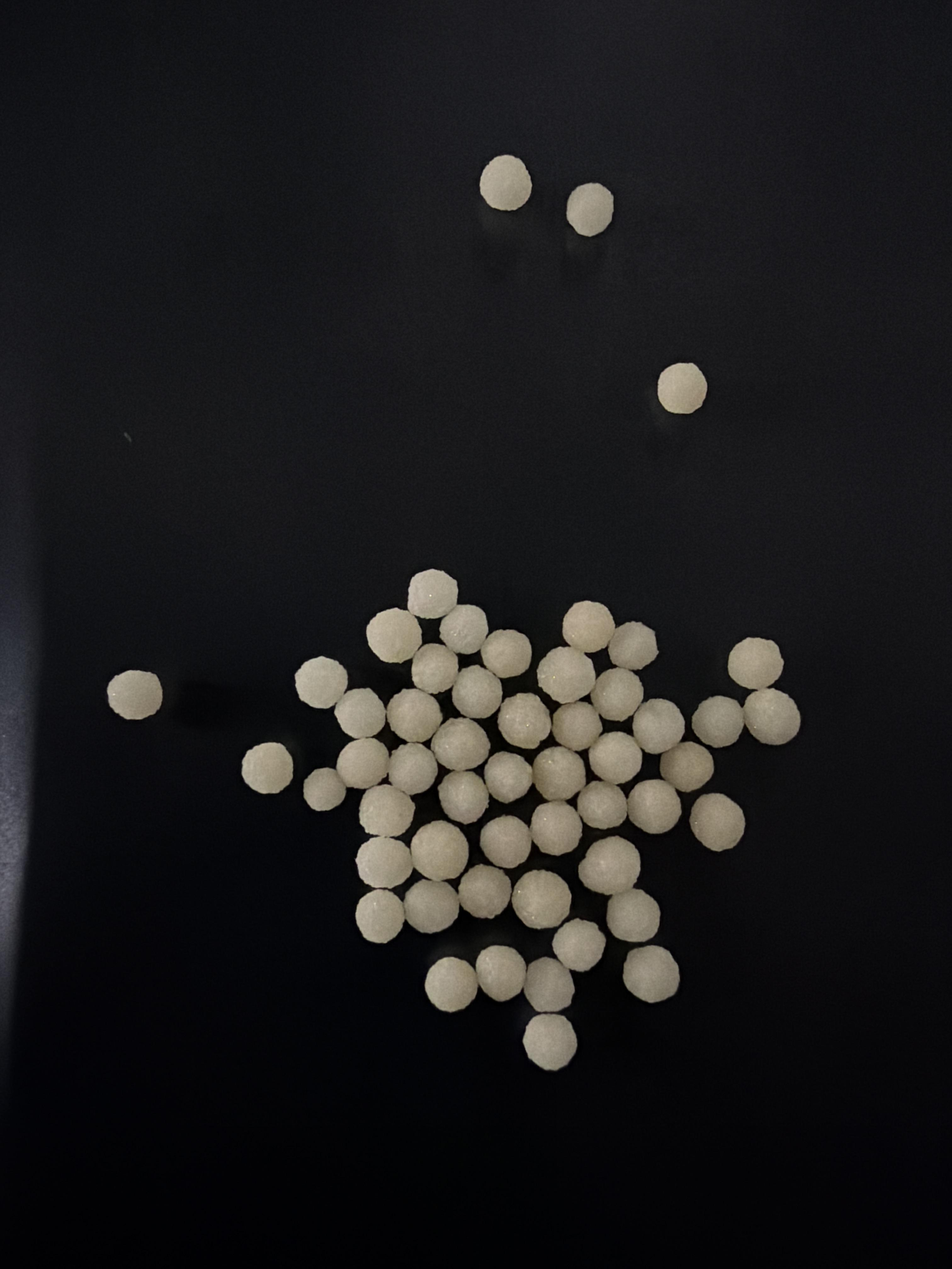pill: (578, 836, 640, 895), (410, 820, 468, 881), (512, 870, 571, 929), (537, 646, 596, 703), (744, 687, 801, 745), (689, 793, 745, 851), (623, 945, 679, 1003), (366, 608, 422, 663), (403, 878, 459, 933), (523, 1014, 577, 1071), (431, 718, 490, 770), (497, 693, 551, 749), (627, 779, 681, 834), (424, 957, 478, 1012), (588, 731, 643, 785), (532, 746, 586, 801), (479, 155, 532, 211), (632, 698, 685, 754), (386, 689, 442, 742), (552, 918, 606, 972), (606, 888, 660, 942), (458, 864, 511, 919), (359, 784, 414, 837), (356, 837, 412, 889), (728, 637, 784, 689), (475, 945, 526, 1001), (530, 801, 582, 855), (591, 667, 643, 721), (562, 601, 615, 653), (336, 737, 389, 789), (691, 696, 744, 748), (660, 741, 714, 792), (524, 957, 574, 1012), (107, 670, 162, 720), (241, 742, 293, 794), (438, 771, 489, 824), (452, 665, 502, 719), (480, 816, 531, 868), (295, 657, 347, 708), (388, 743, 438, 796), (355, 889, 404, 943), (335, 688, 386, 738), (657, 363, 707, 414), (566, 183, 613, 237), (552, 701, 602, 751), (480, 629, 531, 678), (484, 752, 532, 804), (439, 604, 488, 654), (608, 622, 658, 671), (576, 781, 627, 829), (408, 570, 457, 619), (411, 643, 458, 694), (303, 768, 346, 811)
